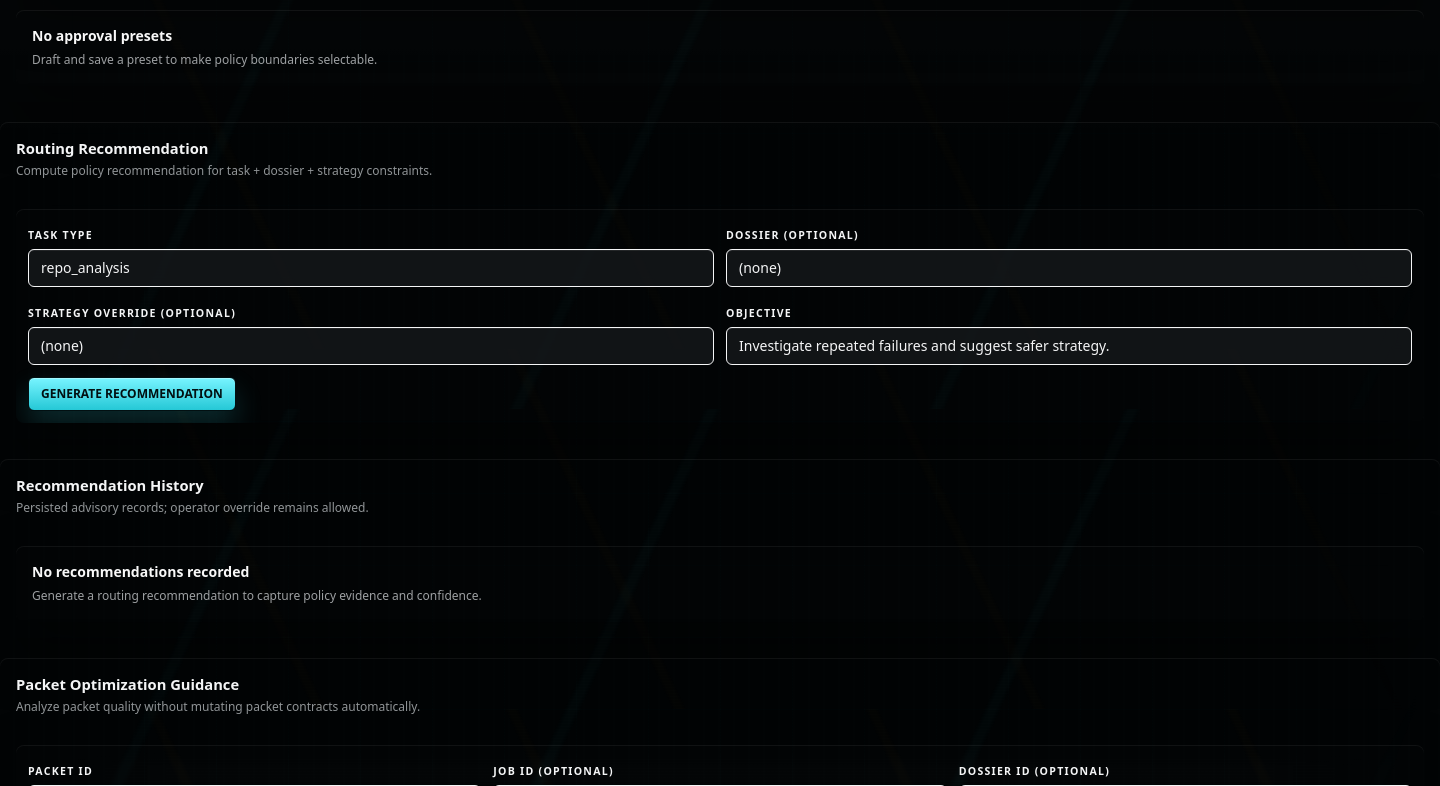
Test: PolicyPage › renders recommendation errors
(page scrolled)
Click the button "Generate Recommendation" at (132, 394), box x1=28 y1=377 x2=236 y2=411
(page scrolled)
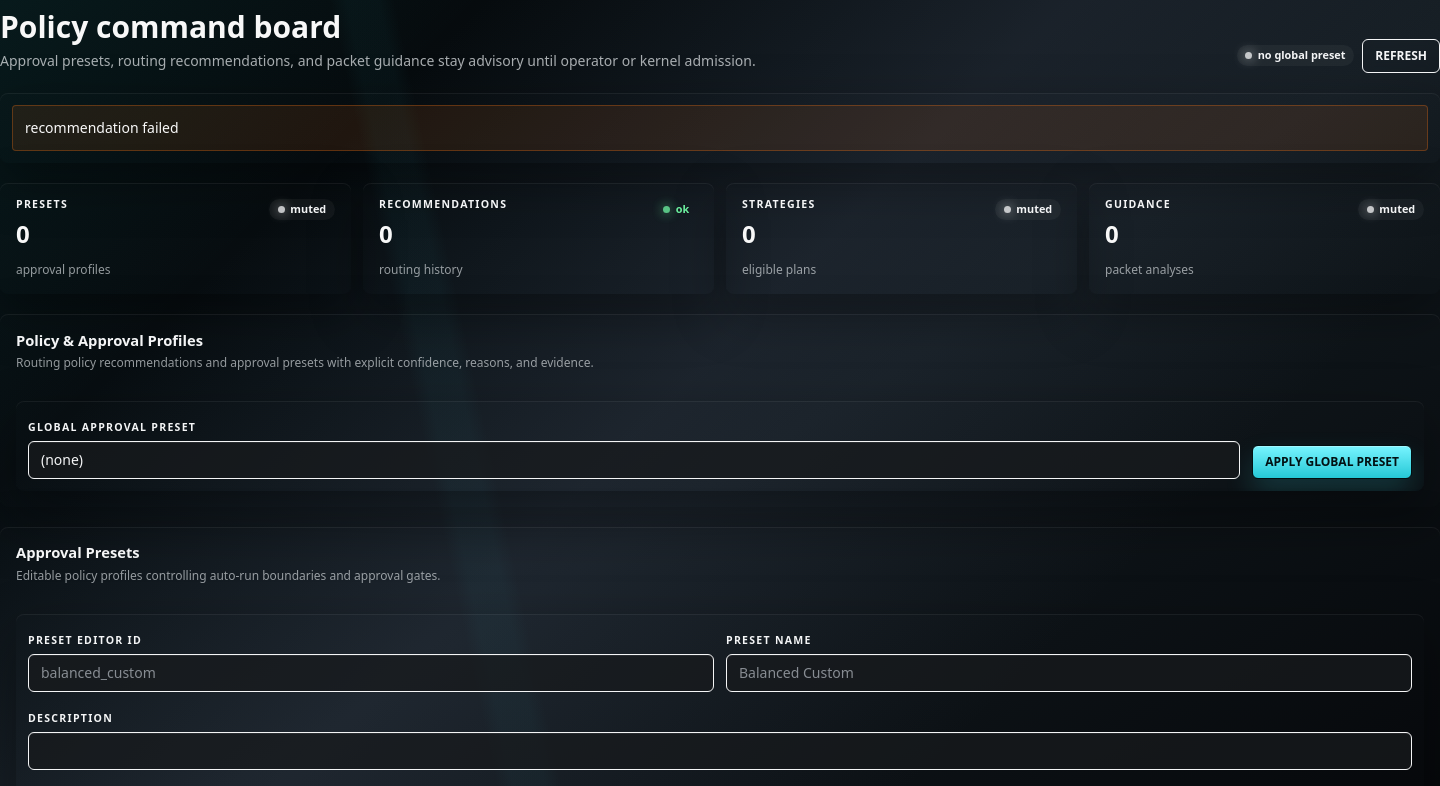
Check: the text "recommendation failed" is shown, box x1=12 y1=105 x2=1428 y2=151
